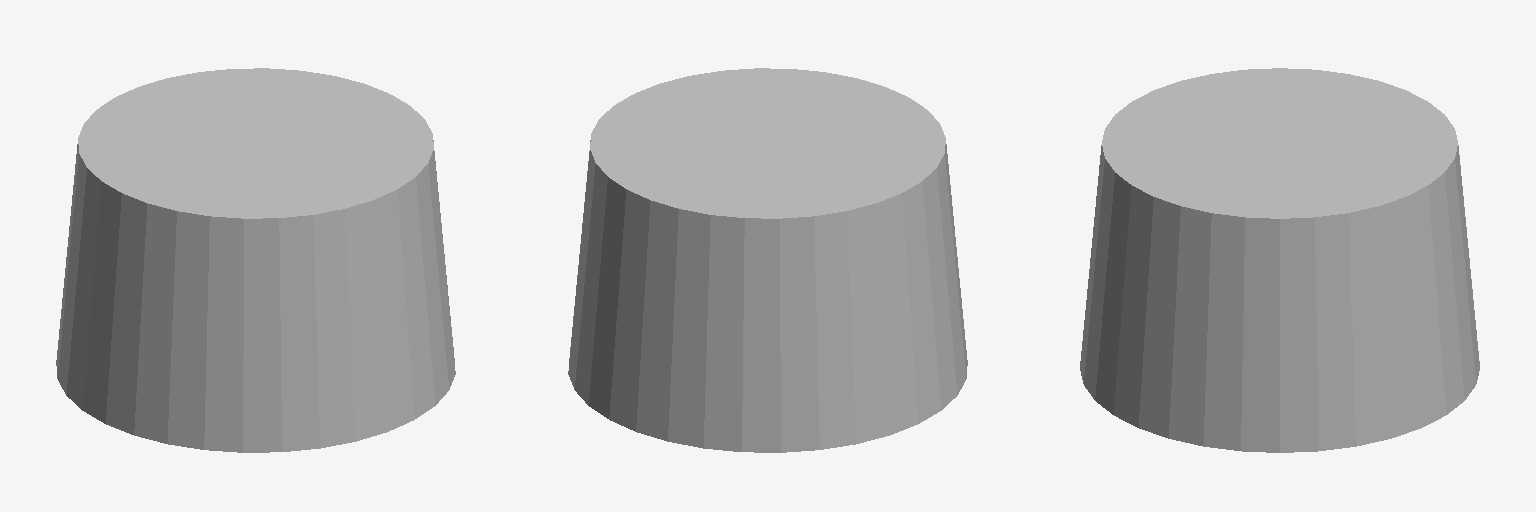
3 renders of one model, left to right at view 1: azimuth 30°, elevation 25°; view 2: azimuth 150°, elevation 25°; view 3: azimuth 270°, elevation 25°, orthographic.
Parts seen in each view (by area): view 1: Base_Cylinder; view 2: Base_Cylinder; view 3: Base_Cylinder.
Boxes of the visible parts, x1,y1,x2,y2 form: Base_Cylinder: [56, 68, 455, 452]; Base_Cylinder: [568, 68, 967, 452]; Base_Cylinder: [1080, 68, 1479, 452].
Size of the model in its own units: 2 by 1.24 by 2.